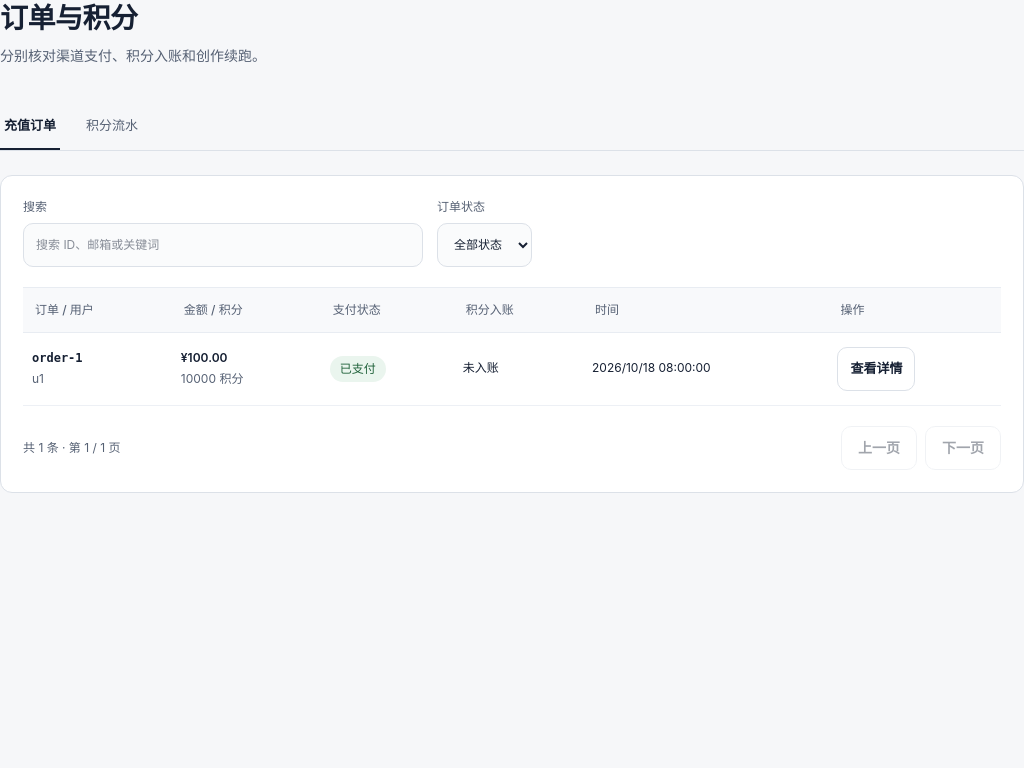
paid but uncredited order cannot submit a refund
Click the button with aria-label "查看订单 order-1" at (876, 369), box [838,347,916,391]
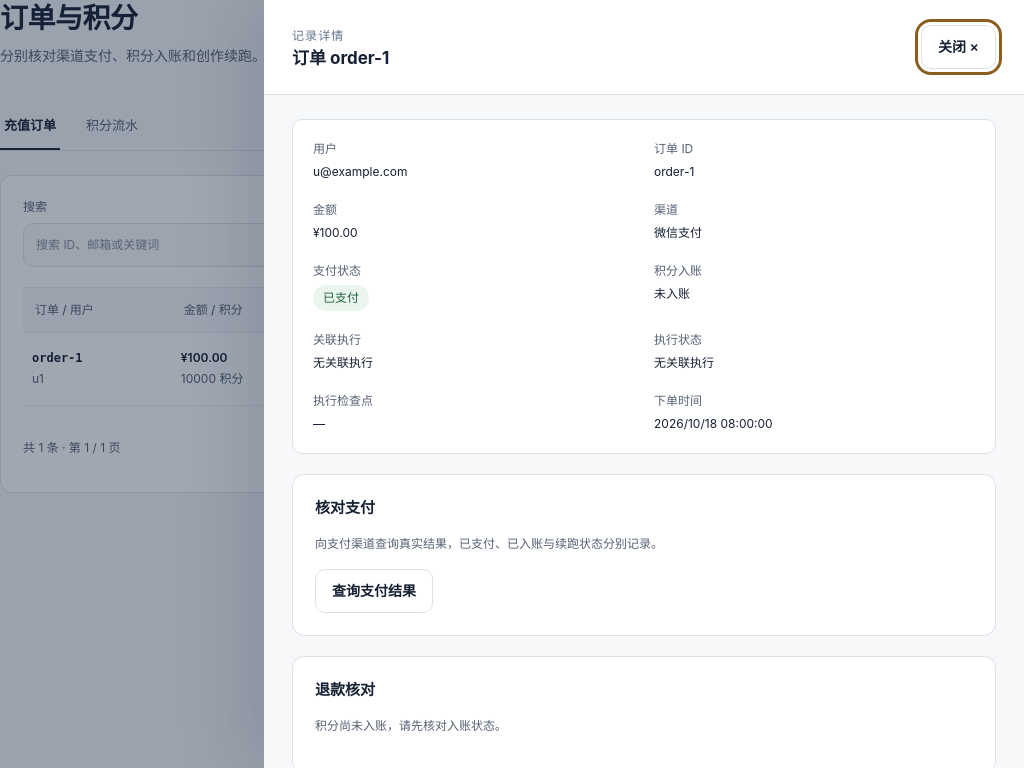
Expected: the text "积分尚未入账，请先核对入账状态。" is shown, [315,718,507,733]
